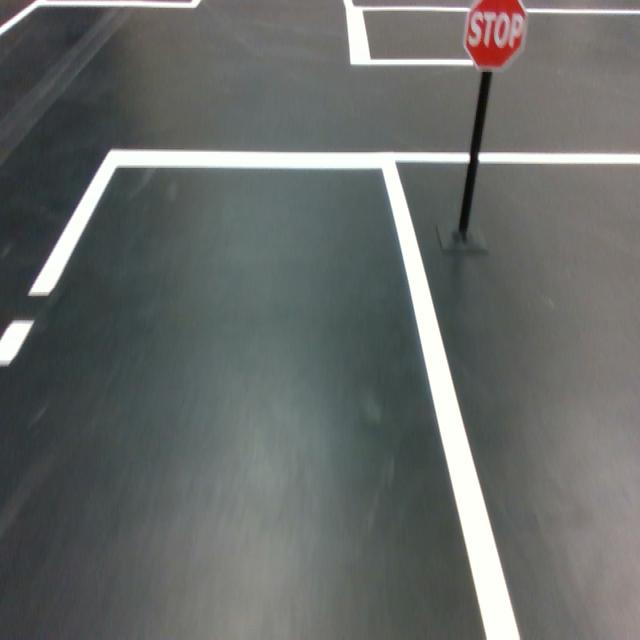stop-sign: (461, 0, 529, 73)
